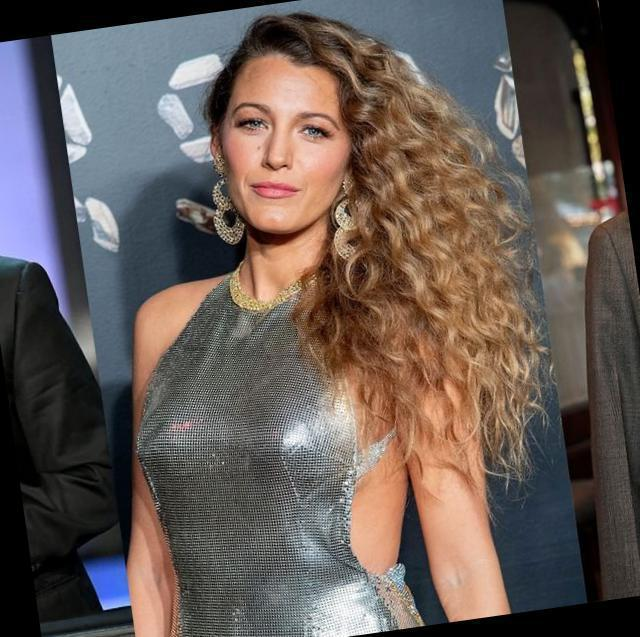Drunk: (225, 65, 353, 235)
